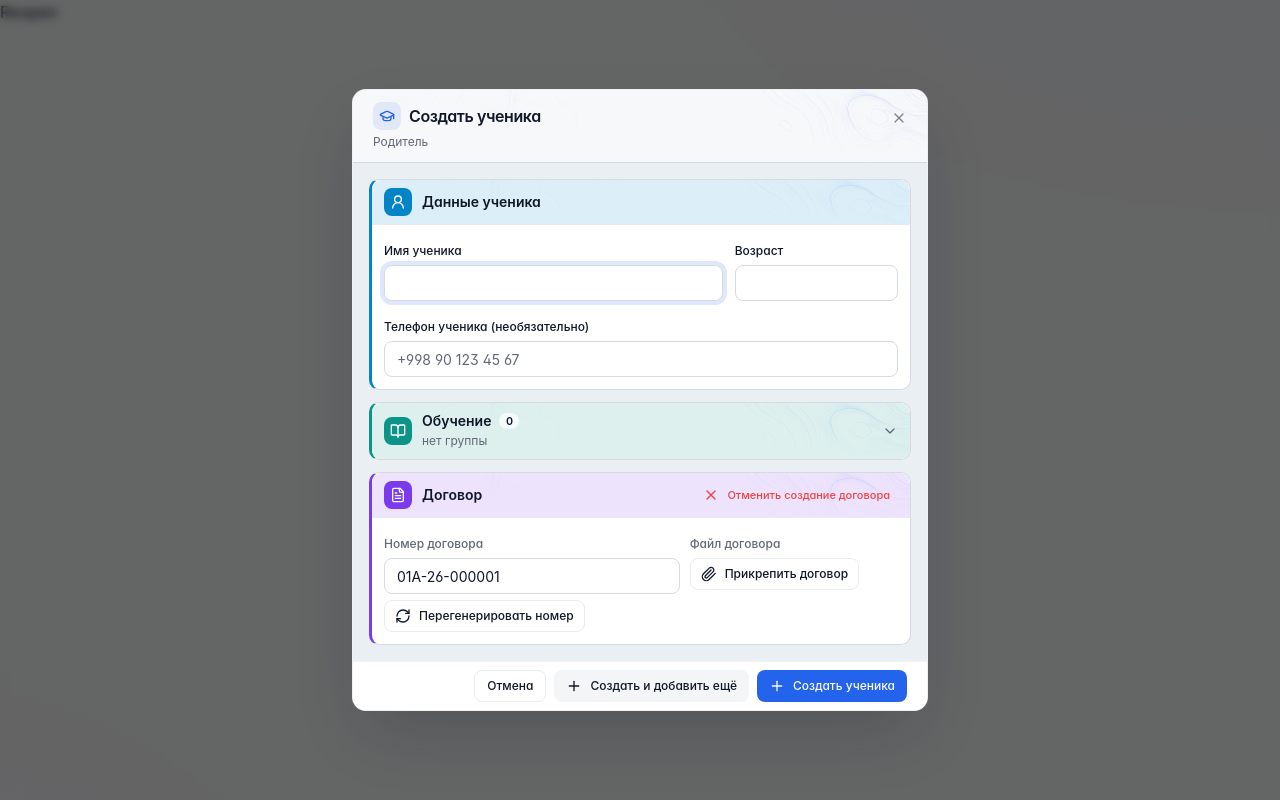
Test: student contracts inside the student dialog › restores a reserved draft and attaches it while creating the new student
Expected: the field labelled "Номер договора" is shown, left=384, top=558, right=680, bottom=594
In the field labelled "Имя ученика": {"x": 553, "y": 283} left=384, top=265, right=723, bottom=301, type "Новый ученик"
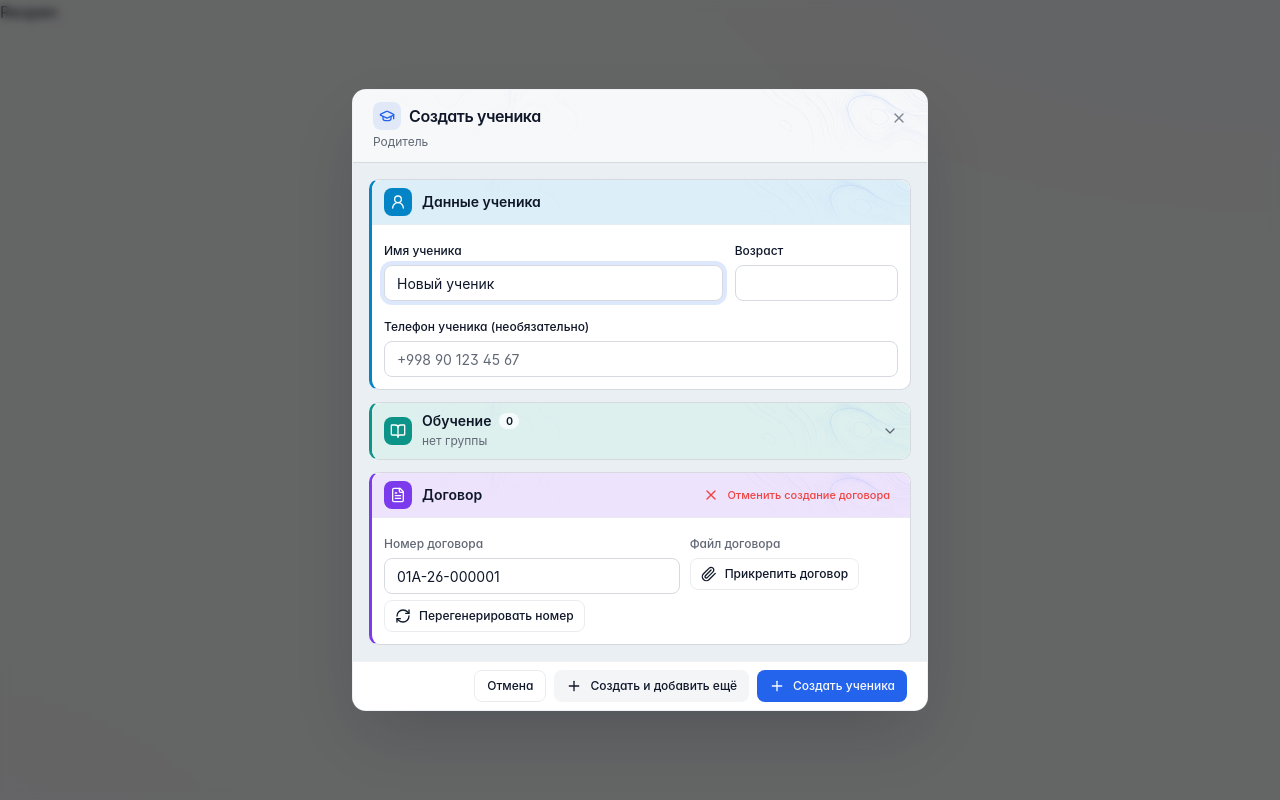
Click the button "Создать и добавить ещё": {"x": 652, "y": 686} left=554, top=670, right=749, bottom=702
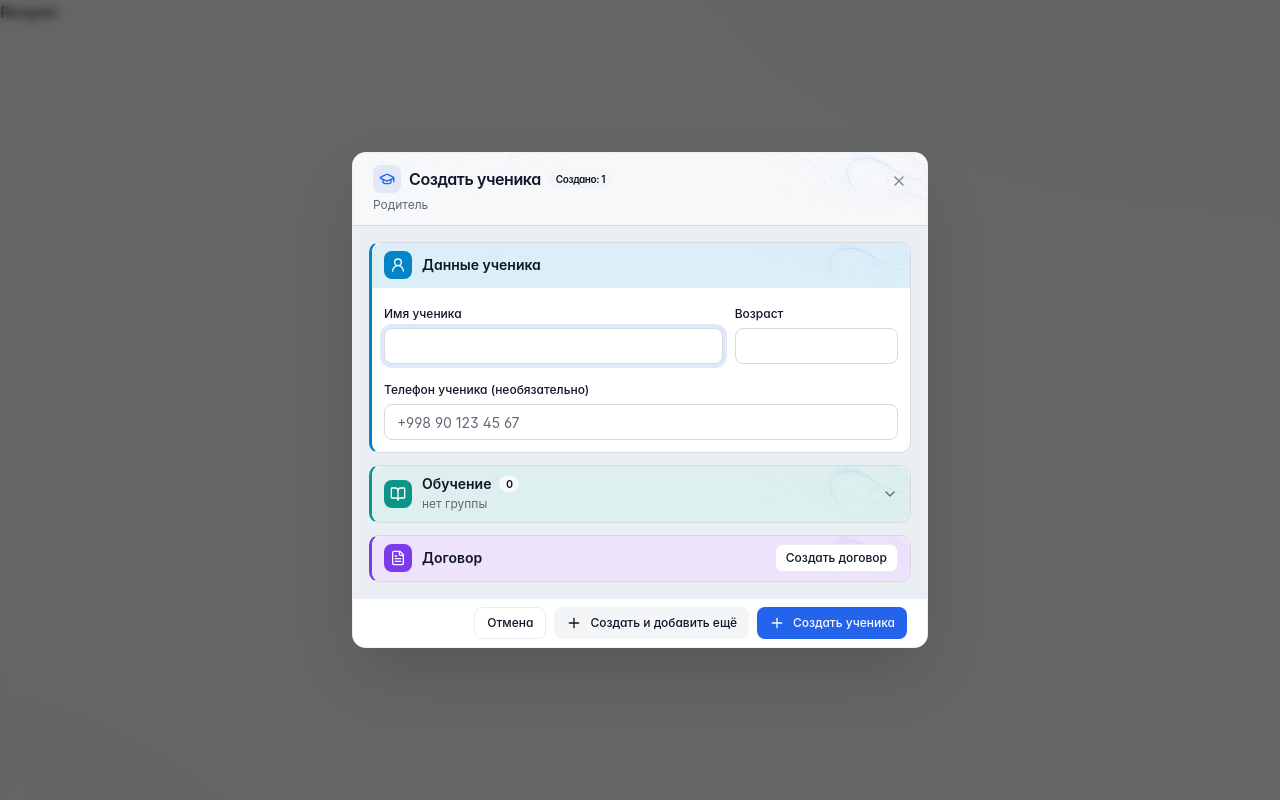
Expected: the label labelled "Номер договора" is gone
Expected: the button "Создать договор" is shown, left=775, top=544, right=898, bottom=572
